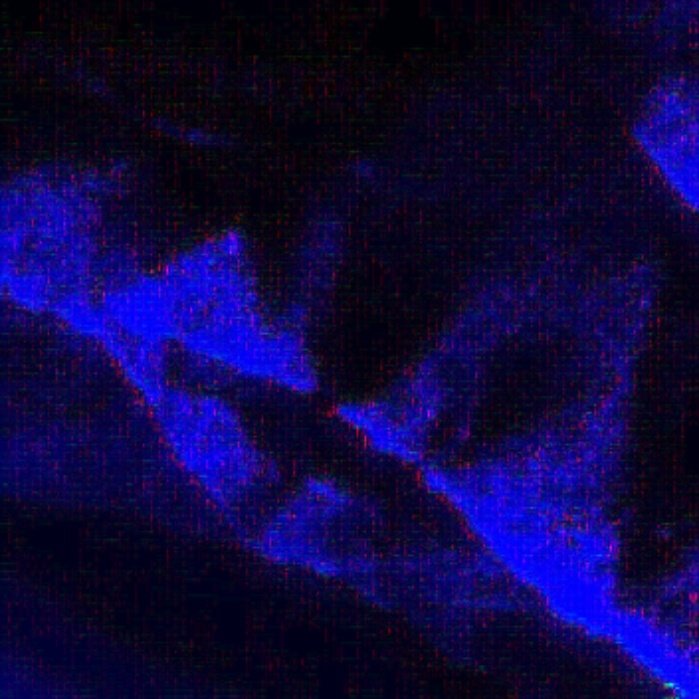rip_current: (201, 194, 527, 513)
